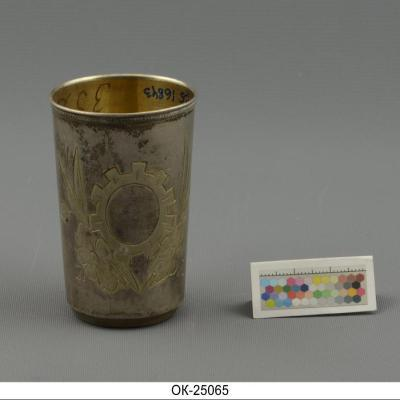dpi: (49, 74, 197, 330)
